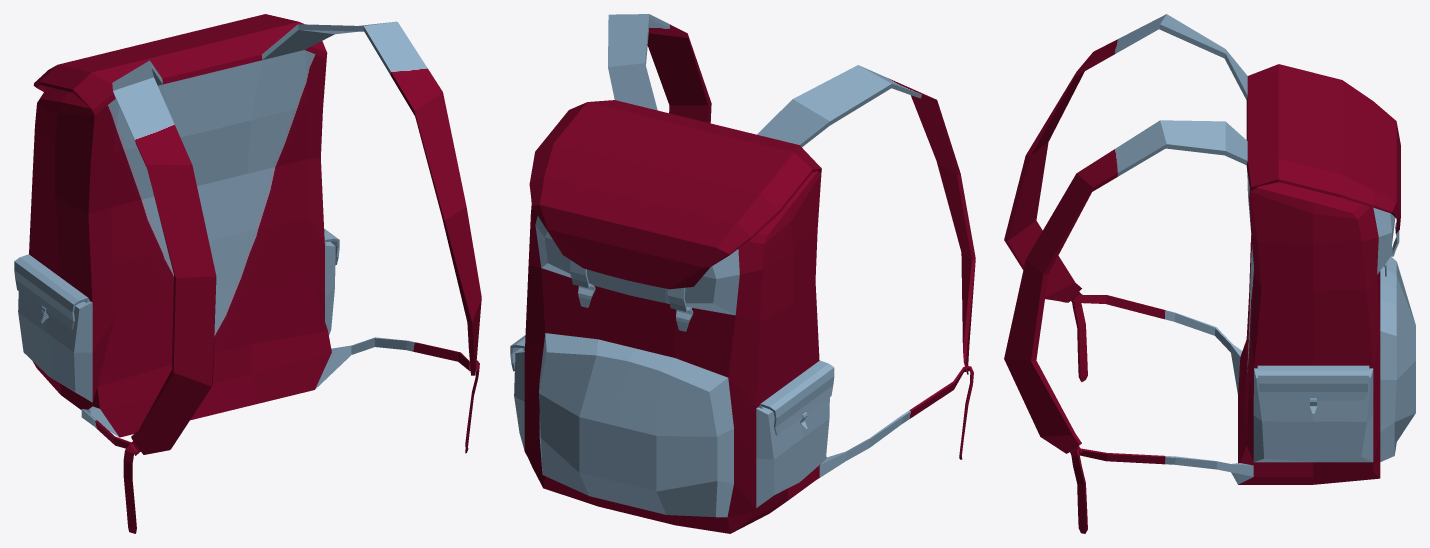
Rendered from mochila.fbx.
3 views of the same model, side by side, from view 1: azimuth 30°, elevation 25°; view 2: azimuth 150°, elevation 25°; view 3: azimuth 270°, elevation 25° (orthographic). The views are drawn at different scales.
Visible parts, largest first — view 1: Cube.001; view 2: Cube.001; view 3: Cube.001.
Boxes of the visible parts, <box> form: Cube.001: <box>14,14,481,533</box>; Cube.001: <box>510,14,975,533</box>; Cube.001: <box>1004,14,1415,533</box>.
Bounding box in the file's own units: 32.12 × 35.5 × 34.4.
